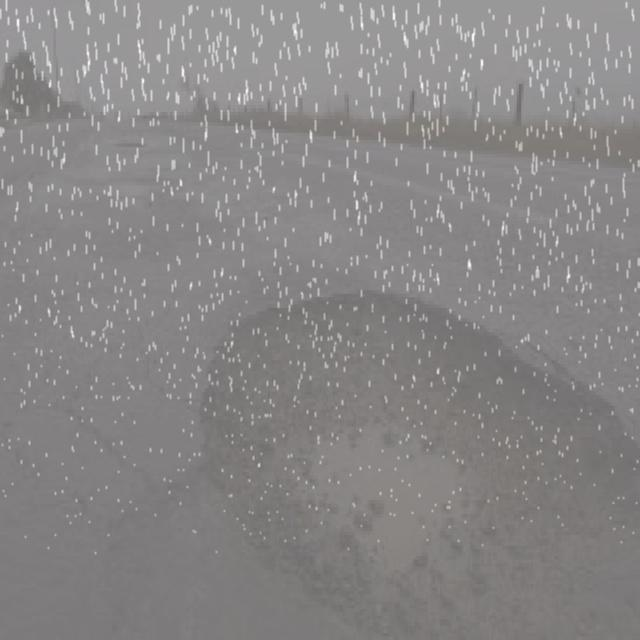Pothole: (185, 274, 640, 640)
